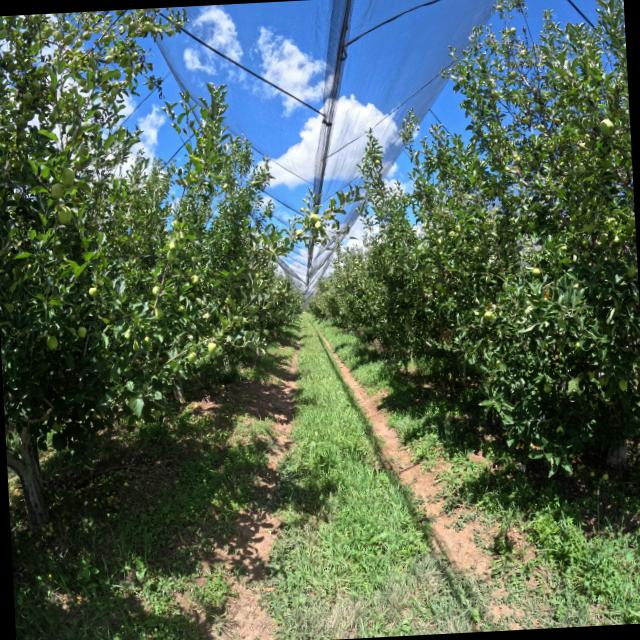-FireBlight-: (432, 311, 455, 344)
